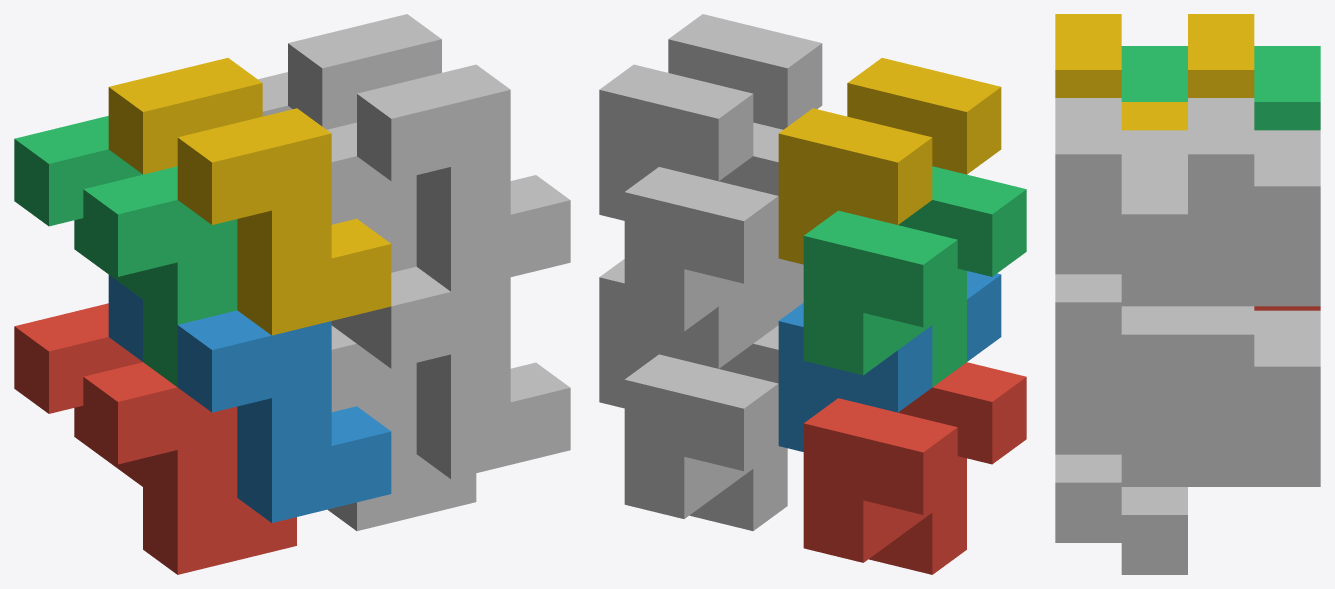
Rendered from tiling.obj.
The picture shows the model from 3 angles, left to right: view 1: azimuth 30°, elevation 25°; view 2: azimuth 150°, elevation 25°; view 3: azimuth 270°, elevation 25°; orthographic projection. The views are drawn at different scales.
Parts seen in each view (by area): view 1: copy_1_domain_4, copy_1_domain_8, copy_1_domain_1, copy_1_domain_2, copy_1_domain_3, copy_1_domain_6, copy_1_domain_5, copy_1_domain_7; view 2: copy_1_domain_1, copy_1_domain_3, copy_1_domain_4, copy_1_domain_8, copy_1_domain_5, copy_1_domain_7, copy_1_domain_2, copy_1_domain_6; view 3: copy_1_domain_8, copy_1_domain_6, copy_1_domain_7, copy_1_domain_5, copy_1_domain_4, copy_1_domain_3.
Boxes of the visible parts, bbox=[...] form: copy_1_domain_4: bbox=[108, 58, 391, 335]; copy_1_domain_8: bbox=[288, 14, 570, 291]; copy_1_domain_1: bbox=[14, 303, 296, 574]; copy_1_domain_2: bbox=[108, 275, 391, 522]; copy_1_domain_3: bbox=[14, 116, 237, 386]; copy_1_domain_6: bbox=[357, 266, 570, 479]; copy_1_domain_5: bbox=[327, 325, 476, 530]; copy_1_domain_7: bbox=[258, 72, 416, 343]; copy_1_domain_1: bbox=[803, 362, 1026, 574]; copy_1_domain_3: bbox=[803, 166, 1026, 387]; copy_1_domain_4: bbox=[778, 58, 1001, 264]; copy_1_domain_8: bbox=[599, 14, 822, 220]; copy_1_domain_5: bbox=[624, 325, 787, 530]; copy_1_domain_7: bbox=[624, 122, 787, 343]; copy_1_domain_2: bbox=[778, 271, 1001, 451]; copy_1_domain_6: bbox=[599, 259, 803, 408]; copy_1_domain_8: bbox=[1055, 98, 1254, 362]; copy_1_domain_6: bbox=[1055, 306, 1254, 542]; copy_1_domain_7: bbox=[1121, 130, 1320, 394]; copy_1_domain_5: bbox=[1121, 310, 1320, 574]; copy_1_domain_4: bbox=[1055, 14, 1254, 130]; copy_1_domain_3: bbox=[1121, 46, 1320, 130].
Bounding box in the file's own units: 7 × 7 × 4.
